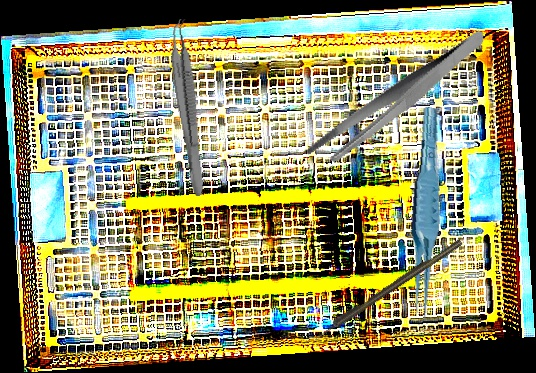Dressing Forceps: (287, 28, 508, 171)
Hook Surgical: (311, 238, 464, 342)
Tissue Forceps: (396, 106, 454, 323), (164, 18, 215, 197)
